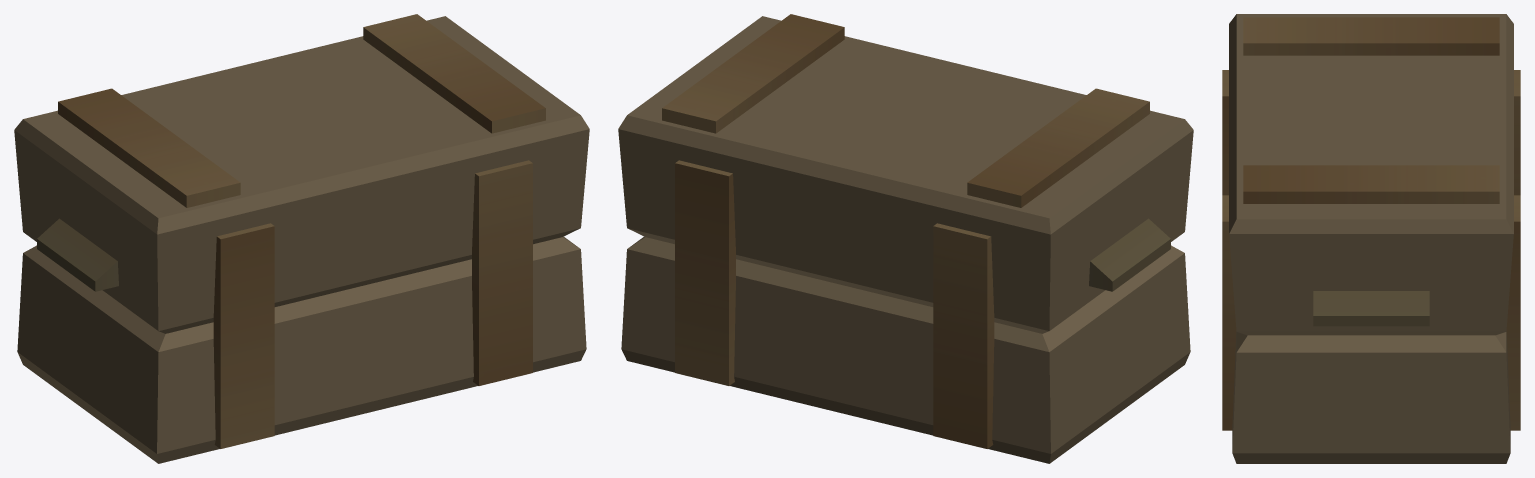
The model's file is Crate_3.fbx.
The picture shows the model from 3 angles, left to right: view 1: azimuth 30°, elevation 25°; view 2: azimuth 150°, elevation 25°; view 3: azimuth 270°, elevation 25°; orthographic projection.
Visible parts, largest first — view 1: polySurface9648; view 2: polySurface9648; view 3: polySurface9648.
Boxes of the visible parts, x1,y1,x2,y2 form: polySurface9648: [14, 14, 589, 463]; polySurface9648: [618, 14, 1193, 463]; polySurface9648: [1222, 14, 1520, 463].
Bounding box in the file's own units: 201 × 105 × 110.
